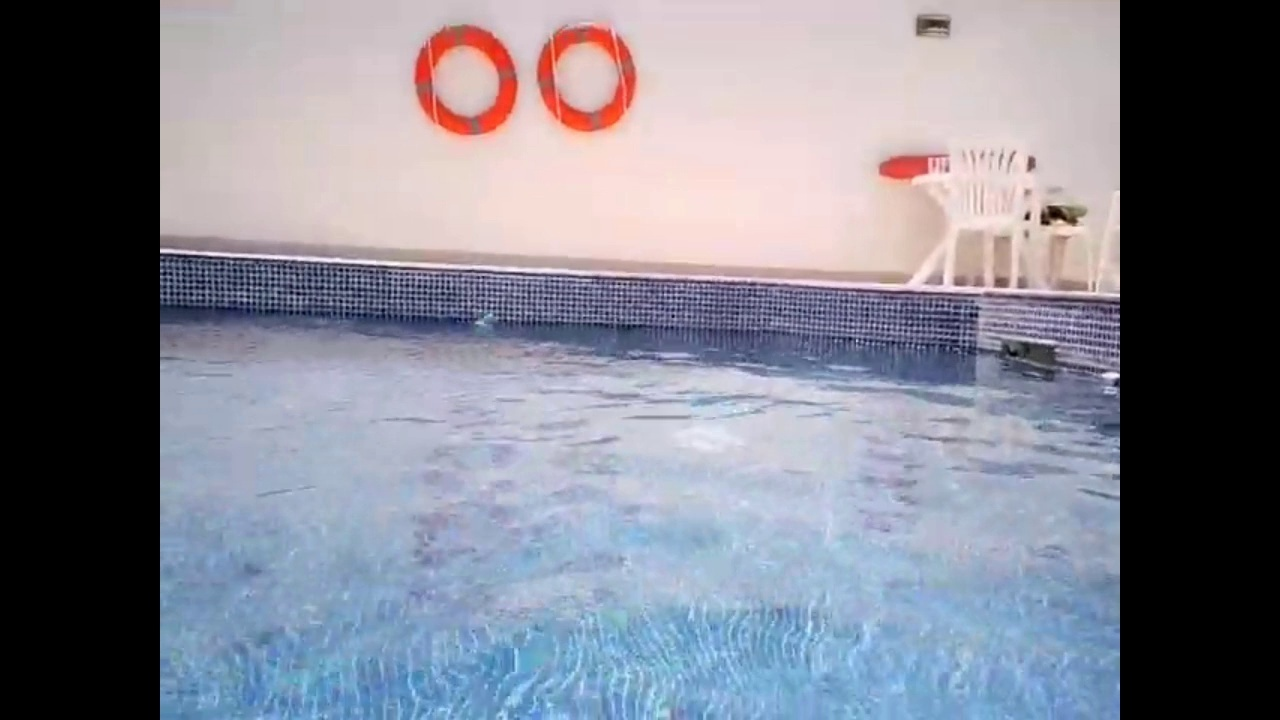debris: (470, 309, 499, 337), (1096, 367, 1117, 394)
